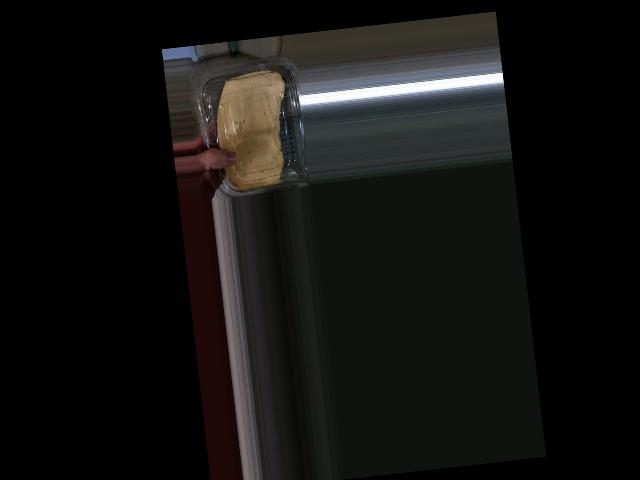cheese: (203, 54, 311, 199)
